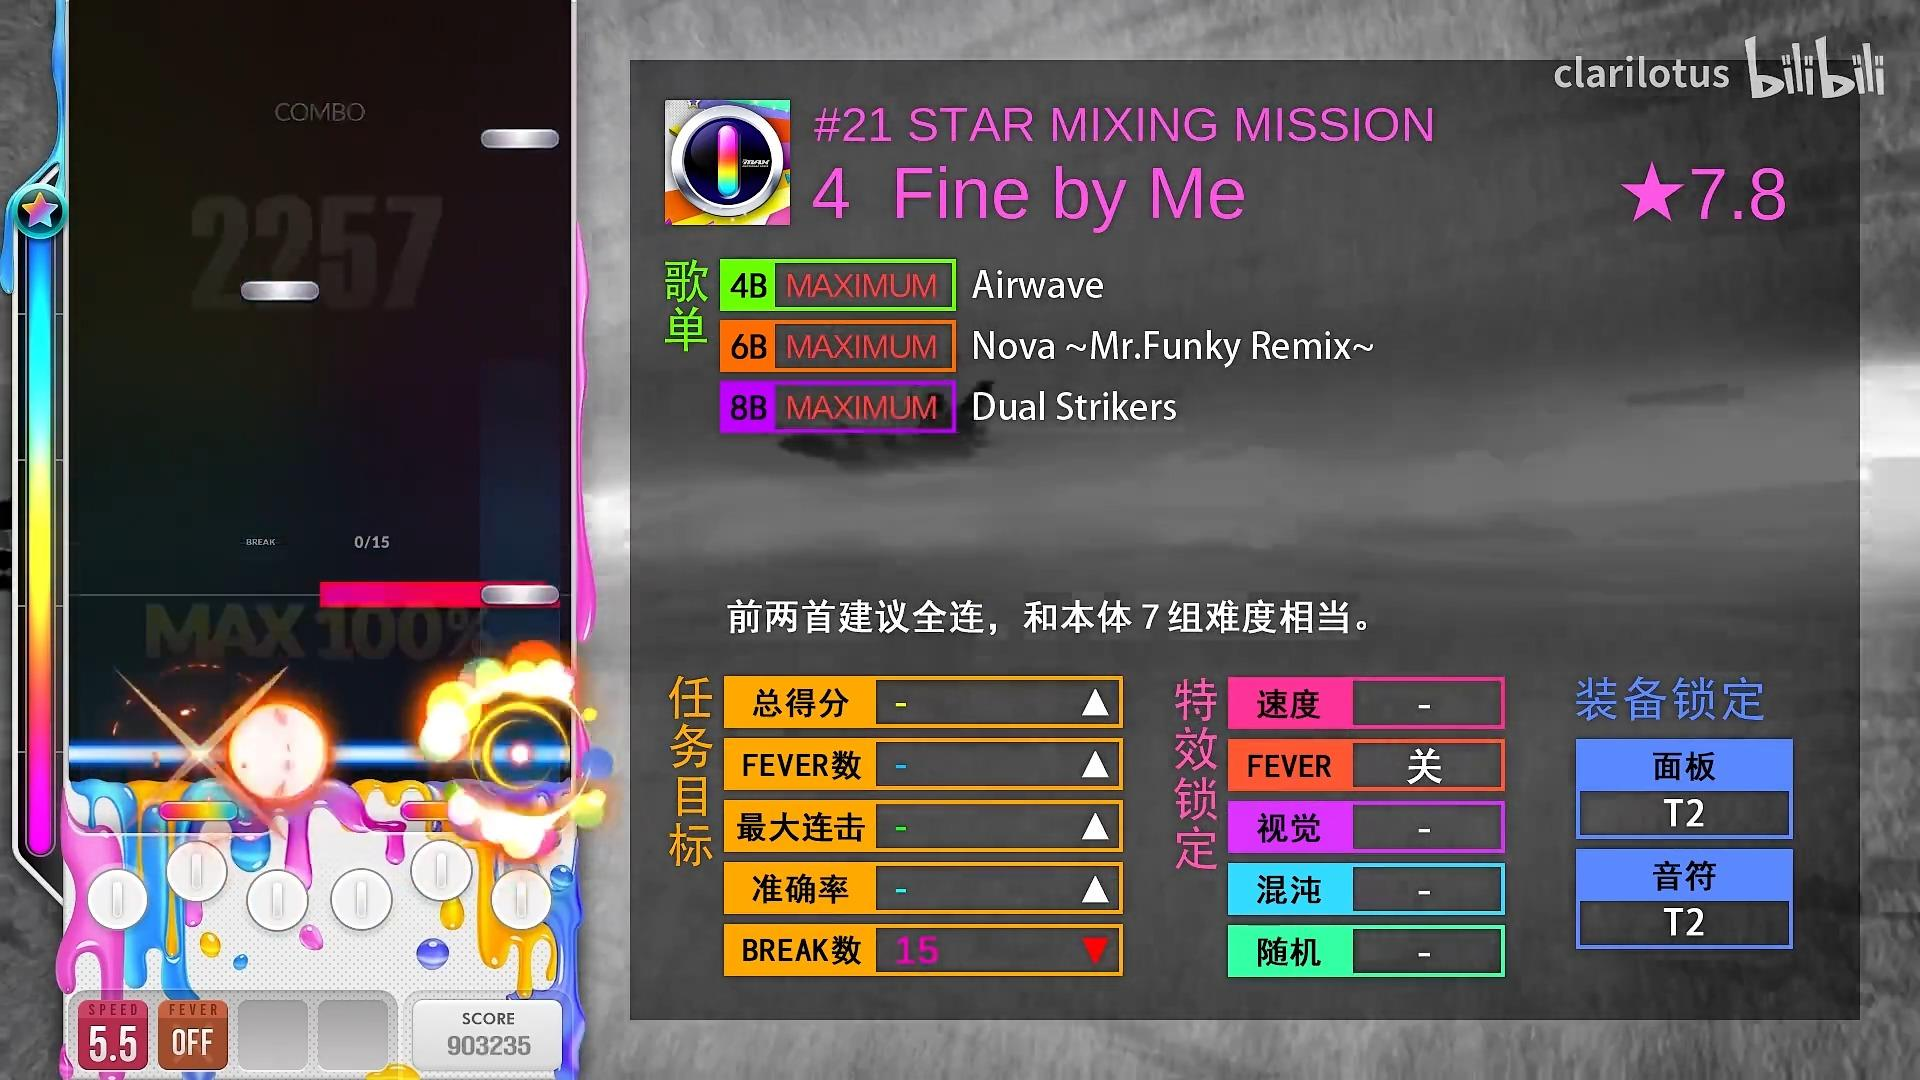note: (480, 584, 559, 606), (241, 280, 319, 302), (480, 128, 559, 148)
xnote: (320, 582, 558, 608)
